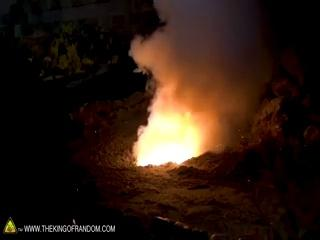Fire: (127, 97, 206, 164)
